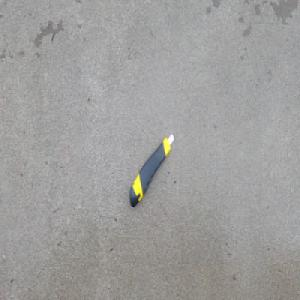Cutter: (129, 132, 175, 208)
